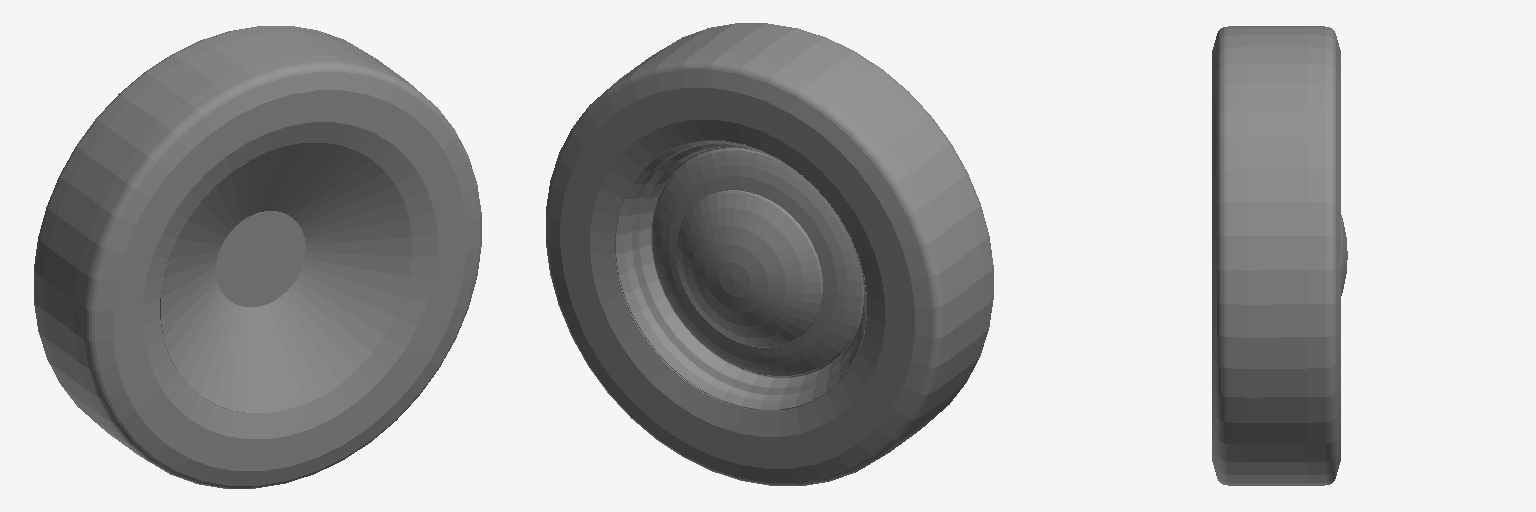
File: VLlTDe.obj
3 views of the same model, side by side, from view 1: azimuth 30°, elevation 25°; view 2: azimuth 150°, elevation 25°; view 3: azimuth 270°, elevation 25° (orthographic).
Parts seen in each view (by area): view 1: LlantaTrDe; view 2: LlantaTrDe; view 3: LlantaTrDe.
Boxes of the visible parts, x1,y1,x2,y2 form: LlantaTrDe: [34, 26, 481, 488]; LlantaTrDe: [546, 23, 993, 485]; LlantaTrDe: [1212, 26, 1347, 485].
Size of the model in its own units: 7.28 by 7.3 by 2.15.